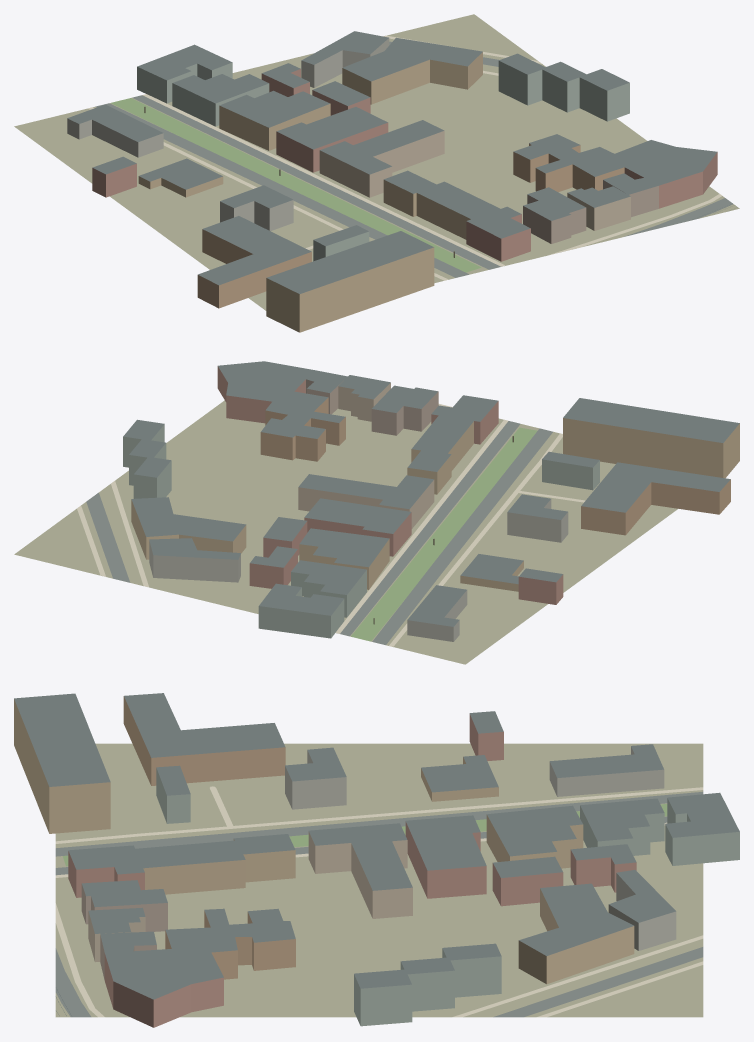
File: sector-1_-7.glb
3 views of the same model, one above another, from view 1: azimuth 30°, elevation 25°; view 2: azimuth 150°, elevation 25°; view 3: azimuth 270°, elevation 25° (orthographic). The views are drawn at different scales.
Visible parts, largest first — view 1: 1:-7-facade, 1:-7-roof, 1:-7-ground, 1:-7-road, 1:-7-park, 1:-7-paving; view 2: 1:-7-ground, 1:-7-roof, 1:-7-facade, 1:-7-road, 1:-7-park, 1:-7-paving; view 3: 1:-7-ground, 1:-7-roof, 1:-7-facade, 1:-7-road, 1:-7-paving.
Boxes of the visible parts, x1,y1,x2,y2 form: 1:-7-facade: [67, 38, 717, 332]; 1:-7-roof: [67, 31, 717, 293]; 1:-7-ground: [14, 14, 739, 310]; 1:-7-road: [95, 41, 733, 277]; 1:-7-park: [111, 98, 481, 272]; 1:-7-paving: [88, 35, 722, 280]; 1:-7-ground: [14, 400, 677, 664]; 1:-7-roof: [123, 361, 739, 626]; 1:-7-facade: [123, 366, 739, 641]; 1:-7-road: [86, 421, 552, 644]; 1:-7-park: [351, 427, 537, 641]; 1:-7-paving: [77, 404, 585, 646]; 1:-7-ground: [55, 743, 703, 1017]; 1:-7-roof: [14, 693, 739, 999]; 1:-7-facade: [14, 696, 739, 1027]; 1:-7-road: [55, 791, 703, 1017]; 1:-7-paving: [55, 786, 703, 1017].
Bounding box in the file's own units: 224 × 16 × 224.
